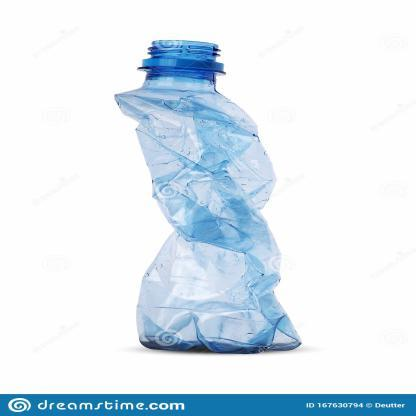bottle: (76, 24, 326, 357)
